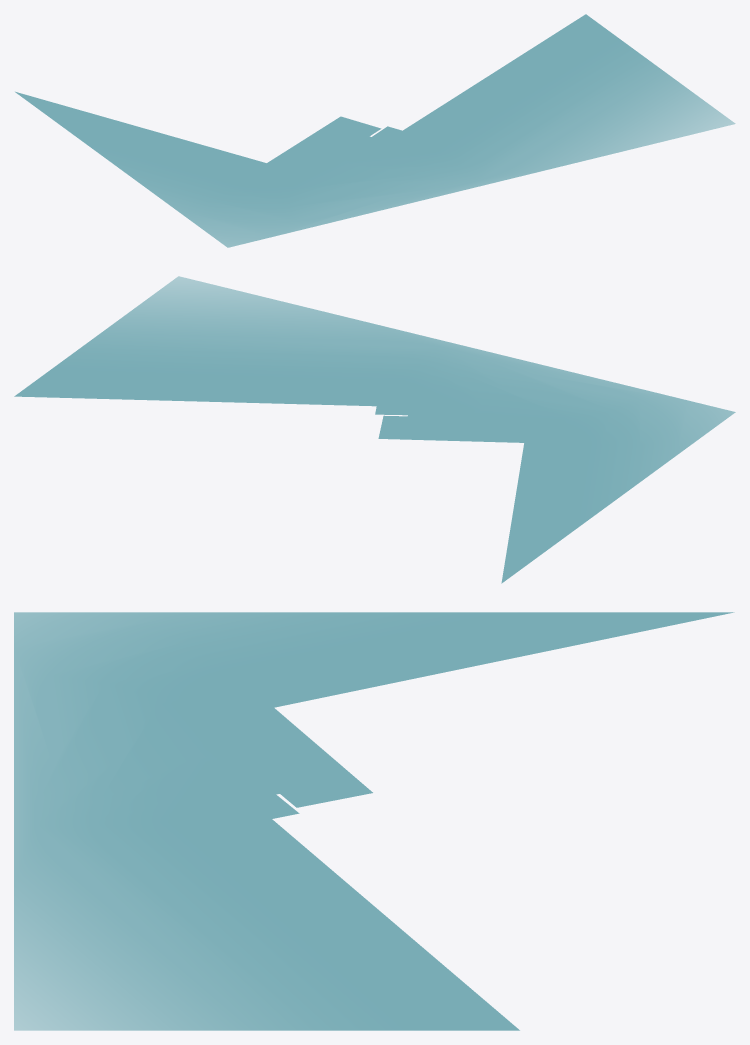
3 views of the same model, one above another, from view 1: azimuth 30°, elevation 25°; view 2: azimuth 150°, elevation 25°; view 3: azimuth 270°, elevation 25° (orthographic). The views are drawn at different scales.
Parts seen in each view (by area): view 1: city; view 2: city; view 3: city.
Part boxes in pixels (x1=…): city: x1=15, y1=14, x2=735, y2=247; city: x1=14, y1=276, x2=735, y2=583; city: x1=14, y1=612, x2=734, y2=1030.
Bounding box in the file's own units: 500 × 0 × 364.
